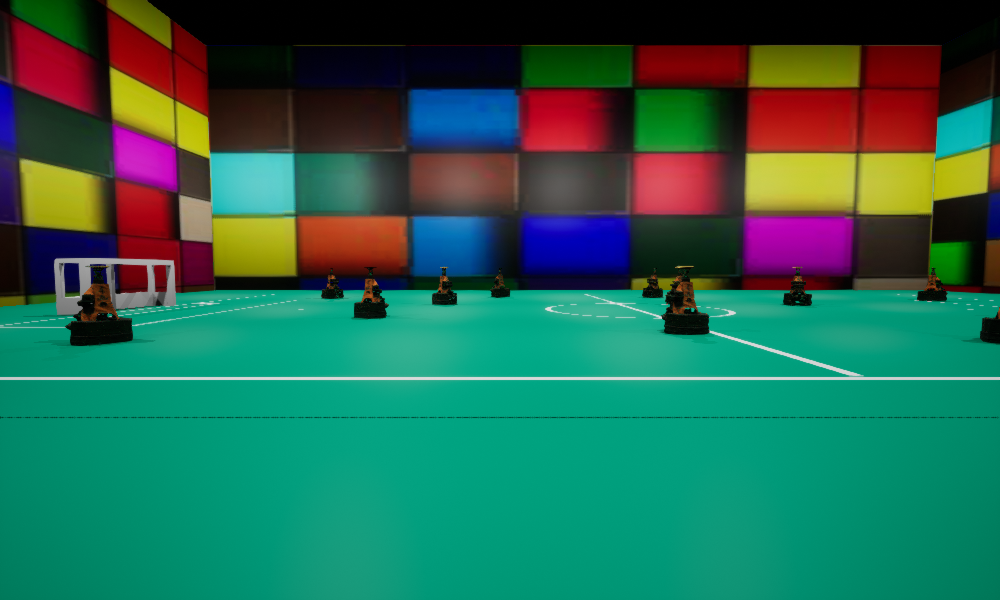0 orange robot TechUnited: (65, 266, 132, 344), (661, 266, 708, 334), (354, 267, 388, 318), (783, 267, 811, 305), (917, 267, 947, 300), (432, 267, 456, 304), (980, 307, 999, 343), (321, 268, 343, 298), (665, 267, 682, 304), (642, 268, 662, 297), (490, 268, 509, 296)
